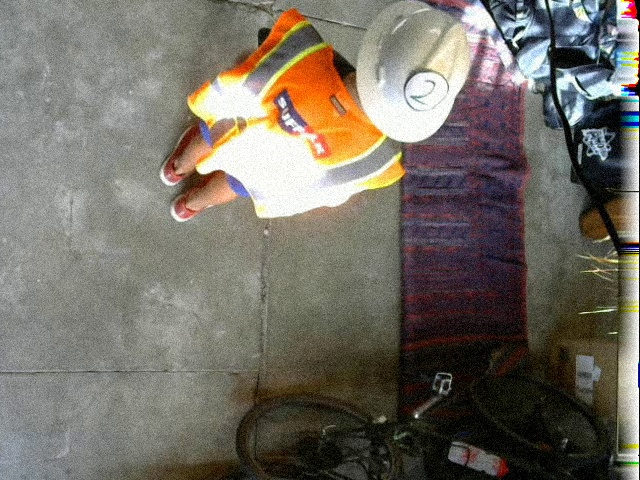two: (404, 71, 448, 114)
